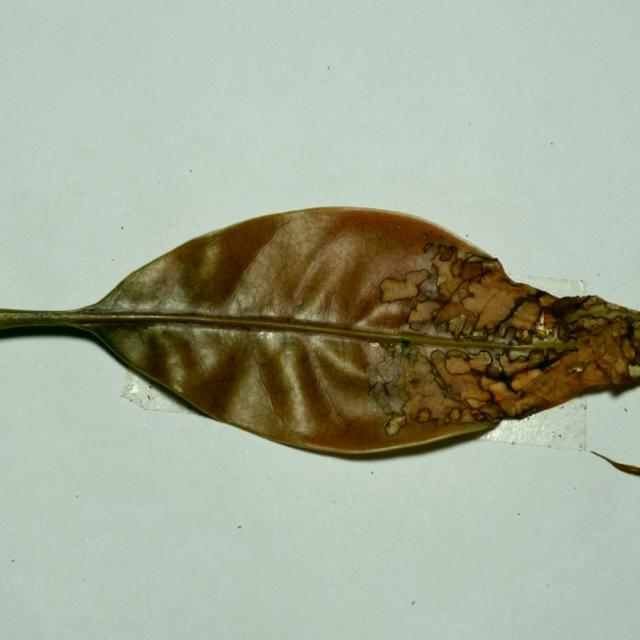Anthracnose: (563, 310, 638, 380), (512, 354, 605, 409), (426, 348, 499, 409), (458, 278, 525, 332), (495, 296, 549, 340), (380, 268, 428, 304), (429, 246, 468, 282), (364, 300, 413, 328), (494, 350, 542, 378), (432, 293, 474, 325), (374, 350, 405, 390), (496, 391, 542, 417), (367, 380, 398, 418), (461, 285, 496, 315), (405, 298, 442, 324), (400, 392, 432, 420), (538, 340, 581, 360), (508, 368, 544, 391), (548, 295, 582, 315), (574, 315, 611, 333), (579, 363, 610, 384), (443, 354, 473, 375), (466, 352, 494, 373), (459, 260, 486, 280), (409, 356, 432, 379), (385, 413, 407, 436), (447, 315, 468, 337), (461, 317, 479, 339), (445, 349, 470, 363), (538, 293, 559, 307), (527, 349, 546, 364), (438, 245, 454, 261), (449, 408, 462, 420), (546, 349, 560, 360), (436, 275, 447, 287), (409, 377, 421, 388), (423, 243, 434, 253)
Mango: (0, 207, 639, 464)
